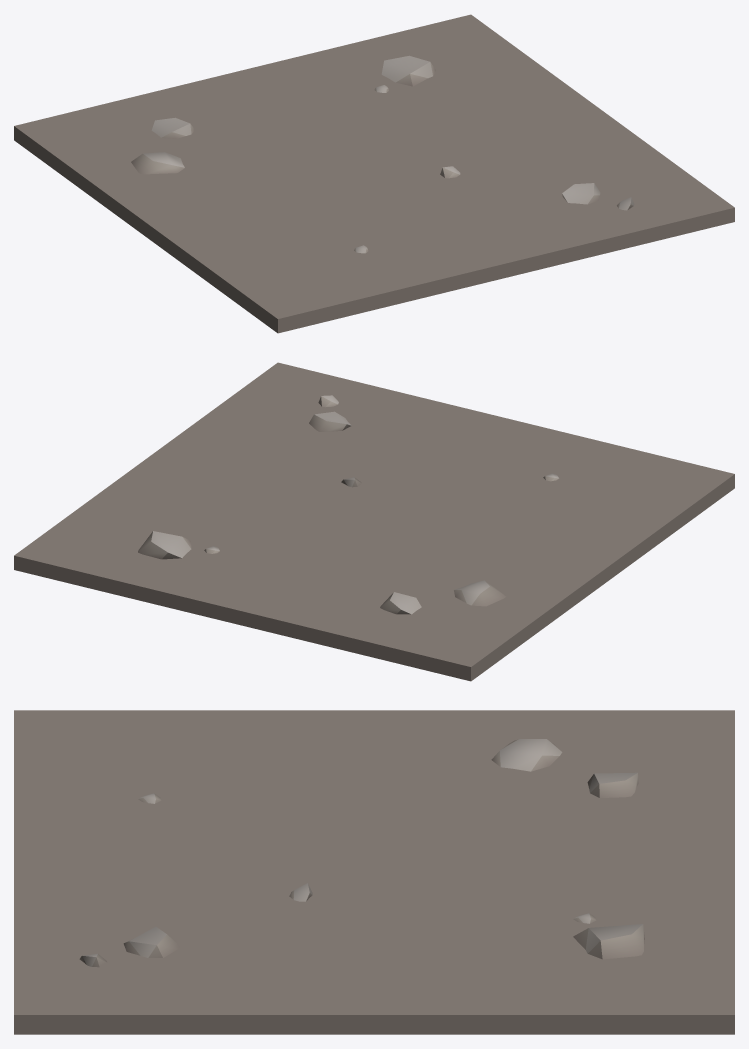
File: dungeon-floor-dirt.glb
3 views of the same model, one above another, from view 1: azimuth 30°, elevation 25°; view 2: azimuth 150°, elevation 25°; view 3: azimuth 270°, elevation 25° (orthographic). The views are drawn at different scales.
Parts seen in each view (by area): view 1: dungeon-floor-dirt; view 2: dungeon-floor-dirt; view 3: dungeon-floor-dirt.
Part boxes in pixels (box(x1,y1,x2,y2)): dungeon-floor-dirt: box(14, 14, 734, 333); dungeon-floor-dirt: box(14, 362, 734, 681); dungeon-floor-dirt: box(14, 710, 734, 1034).
Bounding box in the file's own units: 3 × 0.1564 × 3.
Materials: 1 (1 with a texture image).
